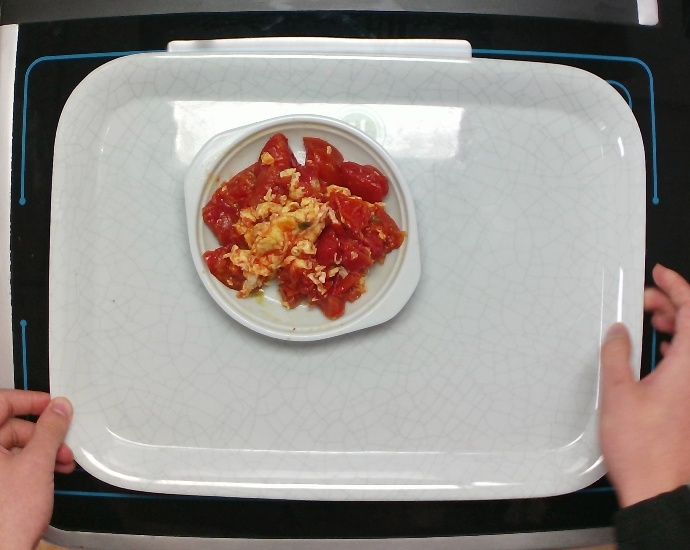JYsf-Shuang_Er_Pan: (178, 110, 424, 345)
